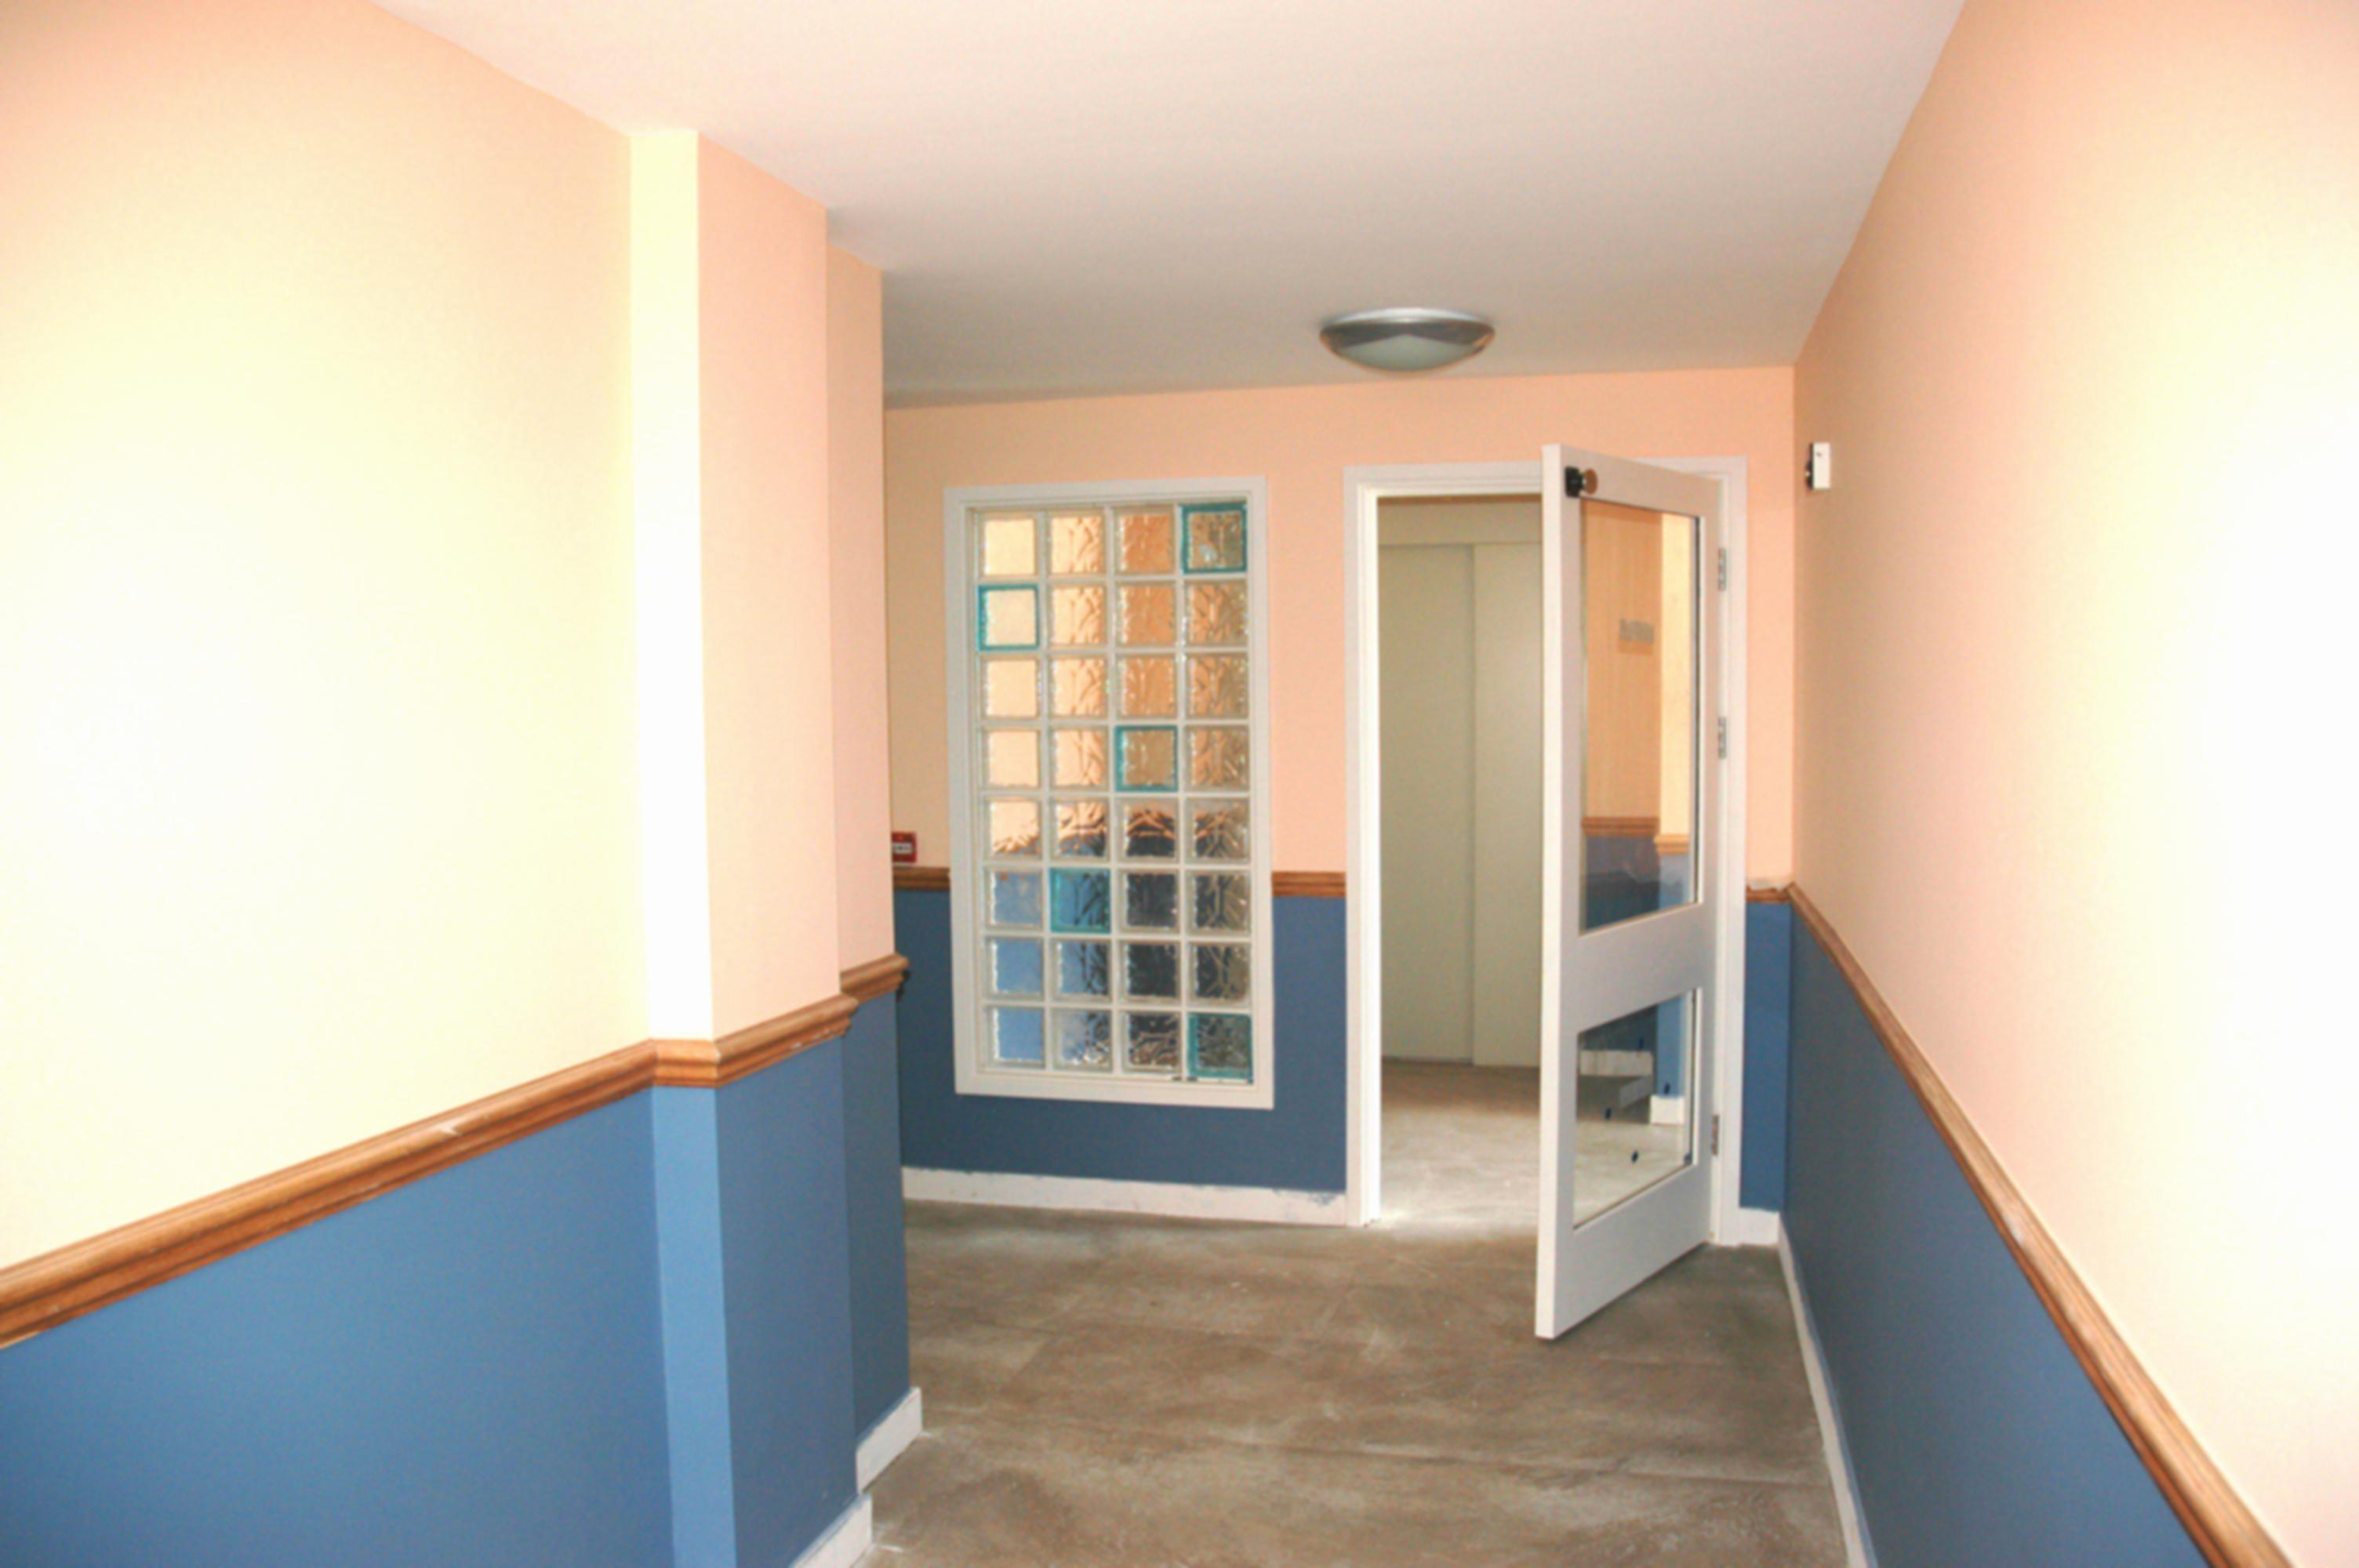Puerta: (1521, 467, 1731, 1356)
